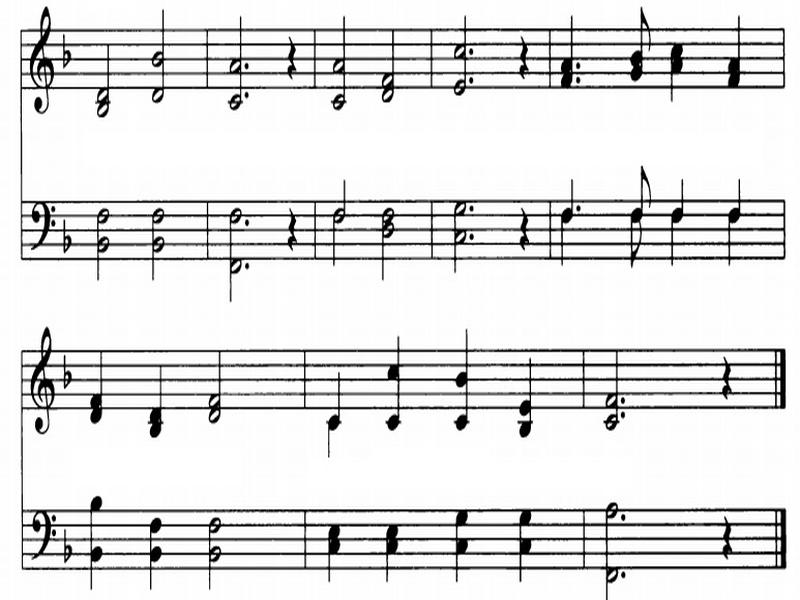B: (145, 3, 178, 119), (200, 347, 242, 432), (85, 40, 126, 124), (327, 12, 356, 110), (217, 13, 244, 114), (200, 514, 234, 594), (89, 203, 117, 289), (377, 22, 404, 104), (598, 496, 618, 600), (222, 207, 241, 305), (600, 345, 620, 436), (144, 204, 167, 283), (448, 17, 468, 99), (450, 200, 467, 275), (328, 204, 349, 264), (377, 205, 393, 283), (328, 180, 353, 218)
Bem: (59, 214, 80, 270), (59, 354, 80, 394), (57, 34, 77, 75), (60, 526, 77, 564)
C: (621, 1, 656, 84), (622, 207, 649, 269), (627, 159, 651, 222)
CF: (28, 501, 58, 571), (27, 194, 57, 262)
CS: (27, 324, 60, 448), (24, 5, 54, 116)
N: (369, 331, 421, 431), (447, 326, 490, 437), (141, 323, 176, 440), (437, 498, 479, 593), (517, 338, 555, 442), (713, 1, 757, 90), (371, 520, 415, 593), (666, 151, 709, 224), (86, 486, 115, 585), (86, 348, 120, 431), (660, 32, 696, 105), (510, 506, 537, 595), (327, 515, 360, 583), (142, 517, 173, 589), (717, 211, 755, 266), (323, 367, 354, 434), (664, 204, 687, 284), (726, 175, 755, 225), (318, 414, 349, 451), (555, 174, 577, 224), (557, 210, 578, 262)
P: (241, 259, 259, 280), (241, 90, 254, 110), (245, 214, 259, 229), (617, 514, 632, 527), (467, 76, 482, 88), (573, 61, 585, 74), (619, 573, 634, 582), (574, 76, 584, 88), (617, 410, 626, 423), (241, 64, 252, 72), (620, 396, 628, 407), (470, 50, 476, 57)
SN: (709, 344, 741, 408), (704, 510, 741, 562), (277, 208, 307, 262), (277, 35, 306, 81), (513, 208, 537, 259), (508, 38, 533, 85)
